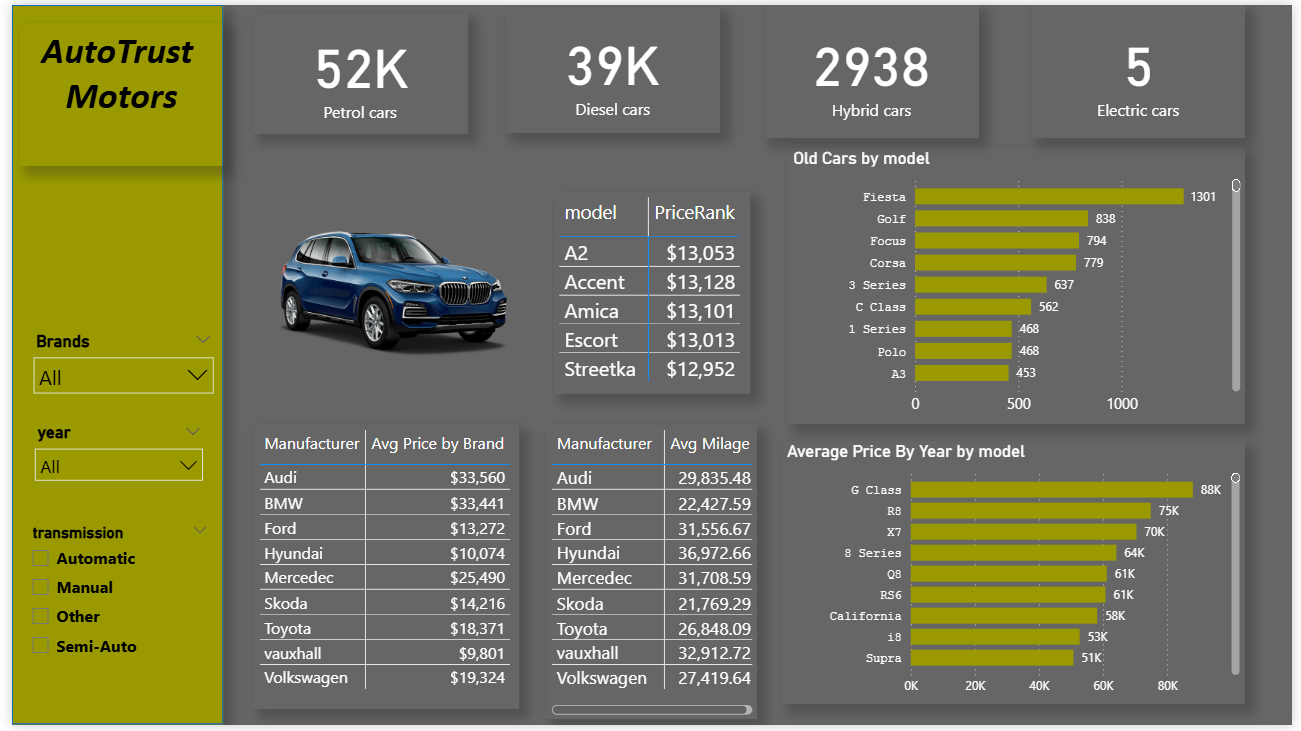

Layout of this report page (visuals, bound fields, positions):
{"tool":"powerbi","page":{"name":"Page 1","canvas":[1280,720],"ordinal":0},"visuals":[{"type":"shape","box":[0,0,211.4,720],"z":0},{"type":"textbox","box":[7.1,17.1,204.3,144.3],"z":1000},{"type":"slicer","fields":{"Values":["cars_data.year"]},"box":[12.9,412.9,188.6,72.9],"z":2000},{"type":"slicer","fields":{"Values":["cars_data.transmission"]},"box":[7.1,514.3,200,150],"z":3000},{"type":"pivotTable","fields":{"Rows":["cars_data.model"],"Values":["cars_data.PriceRank"]},"box":[542.9,187.1,195.7,201.4],"z":4000},{"type":"clusteredBarChart","fields":{"Category":["cars_data.model"],"Y":["cars_data.Average Price By Year"]},"box":[770,435.7,462.9,262.9],"z":5000},{"type":"clusteredBarChart","fields":{"Category":["cars_data.model"],"Y":["cars_data.Old Cars"]},"box":[775.7,142.9,457.1,277.1],"z":6000},{"type":"slicer","fields":{"Values":["cars_data.Manufacturer"]},"box":[11.4,321.4,200,84.3],"z":7000},{"type":"card","fields":{"Values":["cars_data.Petrol"]},"box":[241.4,7.1,214.3,121.4],"z":8000},{"type":"card","fields":{"Values":["cars_data.Diesel"]},"box":[494.3,2.9,214.3,125.7],"z":9000},{"type":"card","fields":{"Values":["cars_data.Hybrid"]},"box":[752.9,0,214.3,132.9],"z":10000},{"type":"card","fields":{"Values":["cars_data.Electric"]},"box":[1020,0,212.9,132.9],"z":11000},{"type":"tableEx","fields":{"Values":["cars_data.Manufacturer","cars_data.Avg Milage"]},"box":[534.3,420,211.4,294.3],"z":12000},{"type":"image","box":[227.1,172.9,307.1,232.9],"z":13000},{"type":"tableEx","fields":{"Values":["cars_data.Manufacturer","cars_data.Avg Price by Brand"]},"box":[241.4,420,265.7,284.3],"z":14000}]}

Visuals, with their boxes in screenshot pixels (x1, y1, x2, y2), scaled from the page's 1280x720 canvas onto the 1301x731 screenshot:
shape: bbox(0, 0, 215, 730)
textbox: bbox(7, 17, 215, 164)
slicer - cars_data.year: bbox(13, 419, 205, 493)
slicer - cars_data.transmission: bbox(7, 522, 210, 674)
pivotTable - cars_data.model x cars_data.PriceRank: bbox(552, 190, 751, 394)
clusteredBarChart - cars_data.model x cars_data.Average Price By Year: bbox(783, 442, 1253, 709)
clusteredBarChart - cars_data.model x cars_data.Old Cars: bbox(788, 145, 1253, 426)
slicer - cars_data.Manufacturer: bbox(12, 326, 215, 412)
card - cars_data.Petrol: bbox(245, 7, 463, 130)
card - cars_data.Diesel: bbox(502, 3, 720, 131)
card - cars_data.Hybrid: bbox(765, 0, 983, 135)
card - cars_data.Electric: bbox(1037, 0, 1253, 135)
tableEx - cars_data.Manufacturer x cars_data.Avg Milage: bbox(543, 426, 758, 725)
image: bbox(231, 176, 543, 412)
tableEx - cars_data.Manufacturer x cars_data.Avg Price by Brand: bbox(245, 426, 515, 715)
